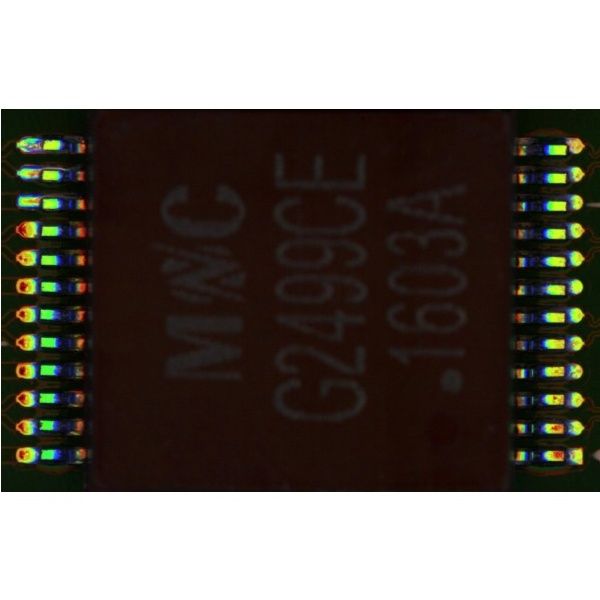Bad_podu: (28, 169, 47, 176), (28, 198, 50, 204)
Bad_qiaojiao: (41, 166, 70, 169)
